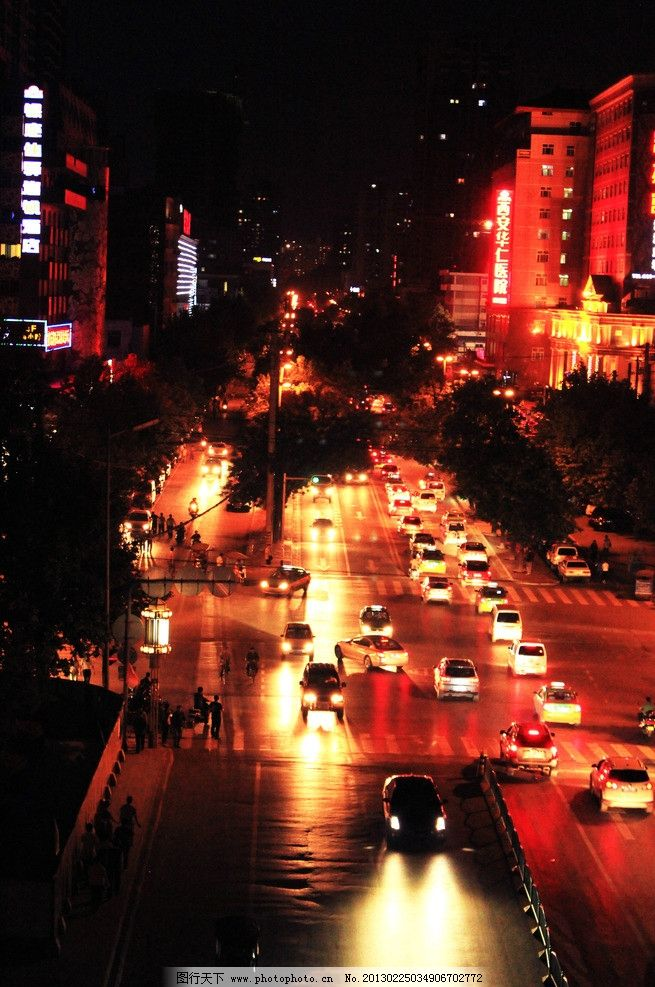car: (383, 770, 446, 847), (334, 630, 410, 672), (431, 655, 481, 700), (534, 679, 581, 724), (278, 620, 316, 660)
suv: (495, 718, 559, 780), (588, 755, 655, 813), (299, 662, 346, 723)
truck: (508, 635, 549, 678), (486, 602, 524, 645)
